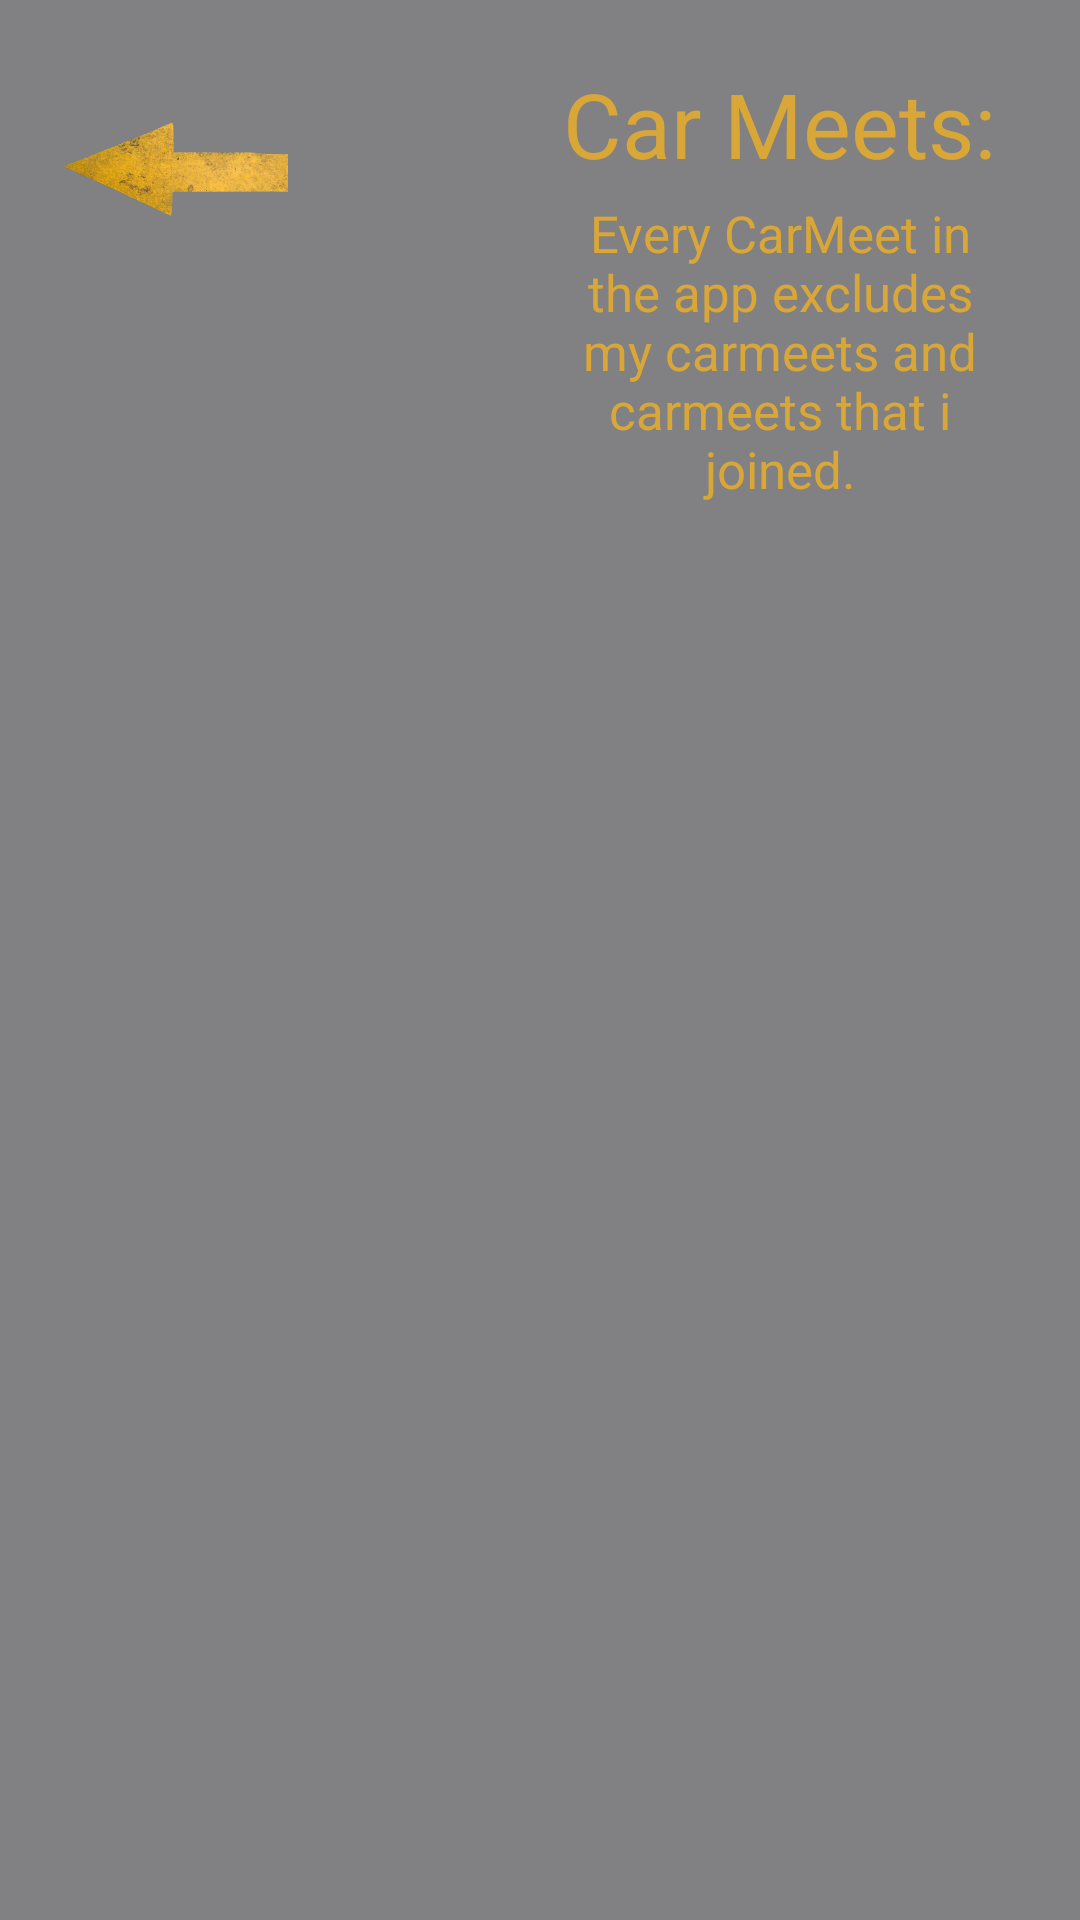

Icon click points for this 1080×1920 phone screenshot, format (x,y):
back: (176,169)
